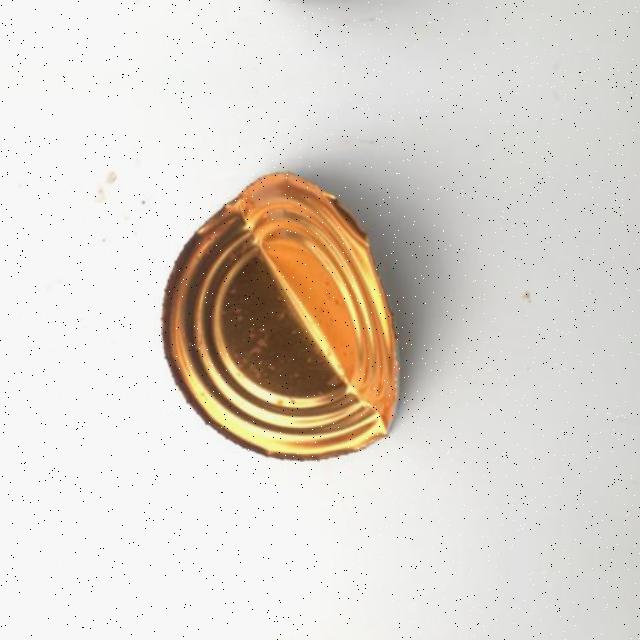Metal: (110, 147, 452, 483), (110, 0, 451, 13), (110, 637, 451, 640)
